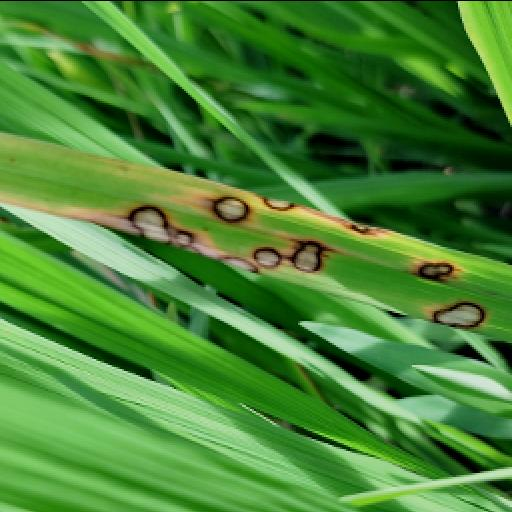Brown Spot: (124, 198, 196, 252), (224, 236, 286, 280), (210, 180, 252, 230), (432, 296, 492, 330), (288, 238, 334, 278), (326, 214, 388, 242), (408, 252, 462, 284), (260, 186, 300, 218), (120, 192, 166, 218)
